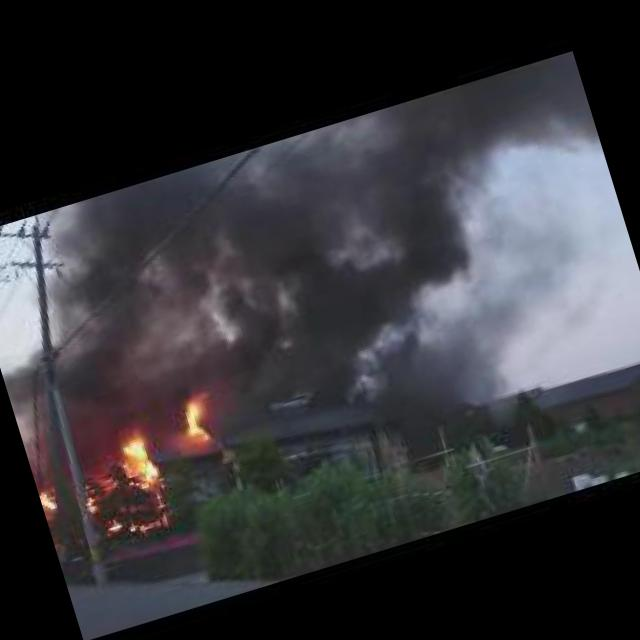fire: (114, 433, 162, 490), (178, 394, 215, 442), (129, 512, 170, 534), (38, 488, 60, 511), (108, 519, 125, 532)
smoke: (0, 90, 508, 455)
